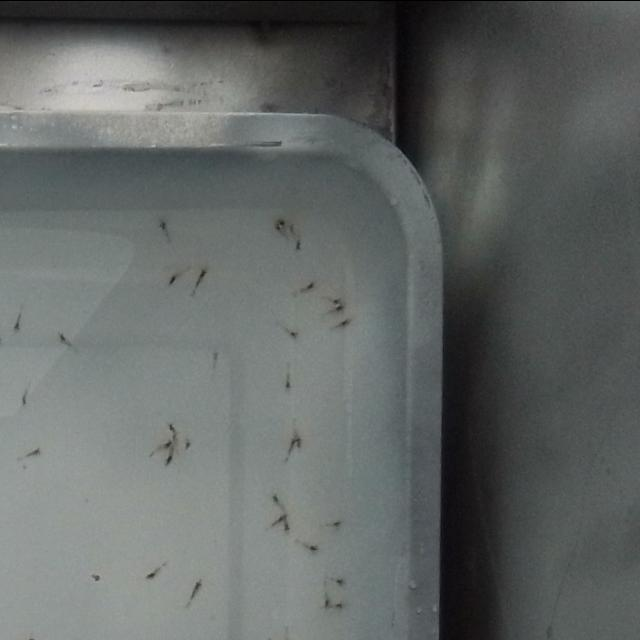shrimp-seed: (190, 578, 202, 594), (10, 317, 22, 332), (304, 280, 316, 294), (293, 237, 305, 250), (19, 392, 30, 406), (58, 329, 68, 344), (198, 266, 210, 278), (334, 300, 346, 312), (145, 568, 157, 580), (167, 273, 177, 287), (164, 452, 174, 466), (30, 447, 42, 458), (340, 317, 352, 328), (284, 378, 294, 391), (159, 218, 169, 230), (288, 436, 296, 451), (322, 596, 332, 608), (166, 420, 176, 432), (332, 295, 342, 305), (290, 329, 300, 339), (211, 350, 221, 360), (310, 542, 320, 552), (278, 513, 288, 523), (284, 520, 292, 532), (272, 224, 281, 234), (276, 217, 286, 226), (334, 576, 344, 585), (163, 440, 172, 450), (272, 492, 280, 503), (91, 572, 102, 580), (334, 518, 342, 528), (184, 438, 192, 448), (296, 437, 302, 448), (336, 600, 344, 608)
